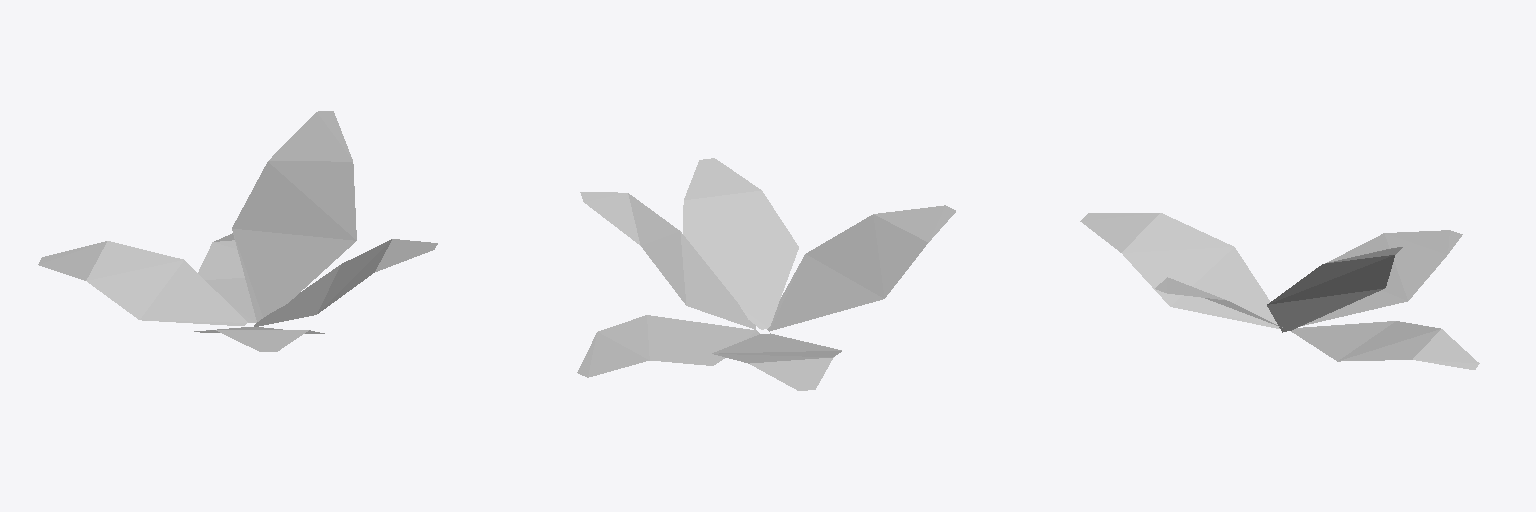
The model's file is fern 02_lod3.obj.
3 renders of one model, left to right at view 1: azimuth 30°, elevation 25°; view 2: azimuth 150°, elevation 25°; view 3: azimuth 270°, elevation 25°, orthographic.
Visible parts, largest first — view 1: tree; view 2: tree; view 3: tree.
Part boxes in pixels (x1,y1,x2,y2): tree: (38, 111, 437, 351); tree: (577, 158, 955, 390); tree: (1080, 213, 1479, 369).
Bounding box in the file's own units: 99.15 × 51.54 × 129.